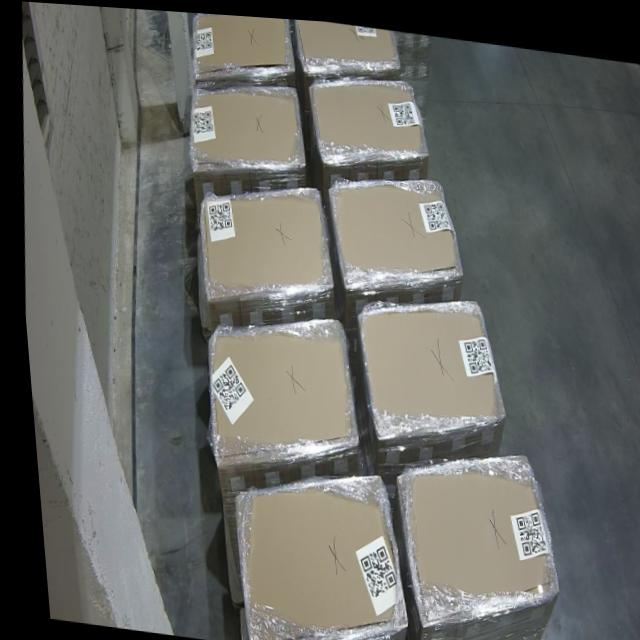pallet: (224, 474, 396, 640), (392, 447, 552, 616), (202, 318, 350, 456), (356, 295, 496, 426), (194, 187, 326, 295), (328, 172, 457, 279), (311, 74, 425, 161), (189, 86, 301, 163), (192, 10, 288, 76), (296, 15, 399, 64)
